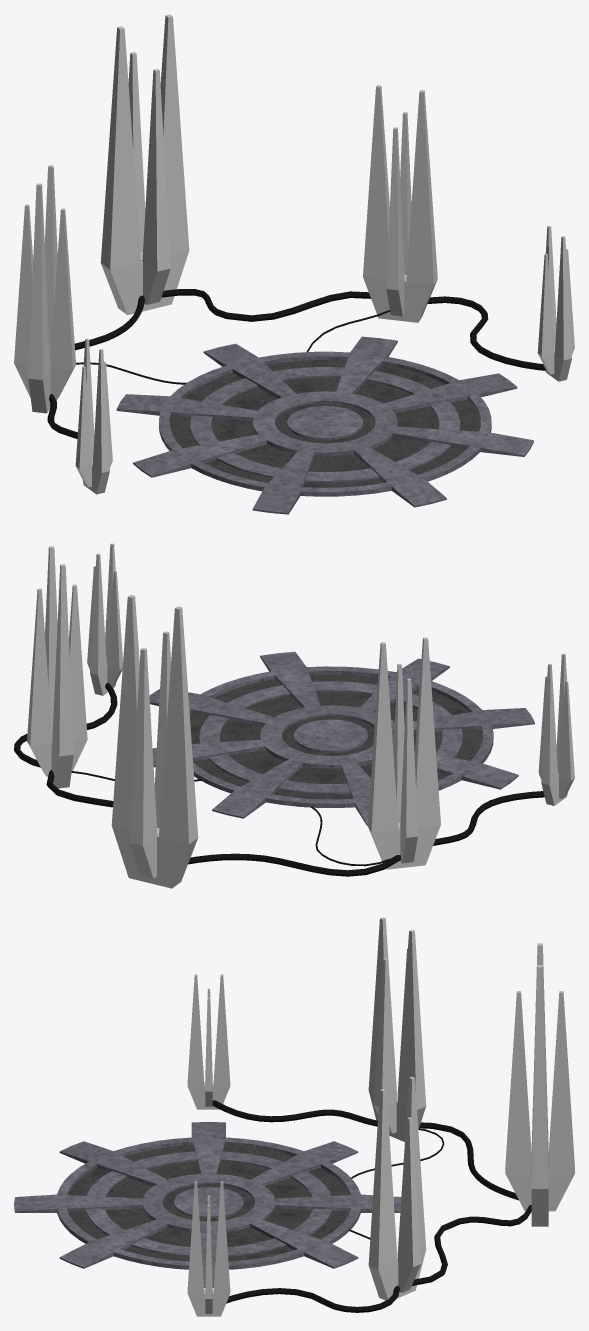
Rendered from spawn enemy fix.fbx.
3 views of the same model, one above another, from view 1: azimuth 30°, elevation 25°; view 2: azimuth 150°, elevation 25°; view 3: azimuth 270°, elevation 25° (orthographic). The views are drawn at different scales.
Visible parts, largest first — view 1: BezierCurve.005; view 2: BezierCurve.005; view 3: BezierCurve.005.
Boxes of the visible parts, x1,y1,x2,y2 form: BezierCurve.005: (14,14,574,514); BezierCurve.005: (14,543,574,888); BezierCurve.005: (14,917,574,1316).
Bounding box in the file's own units: 1365 × 749 × 1456.
